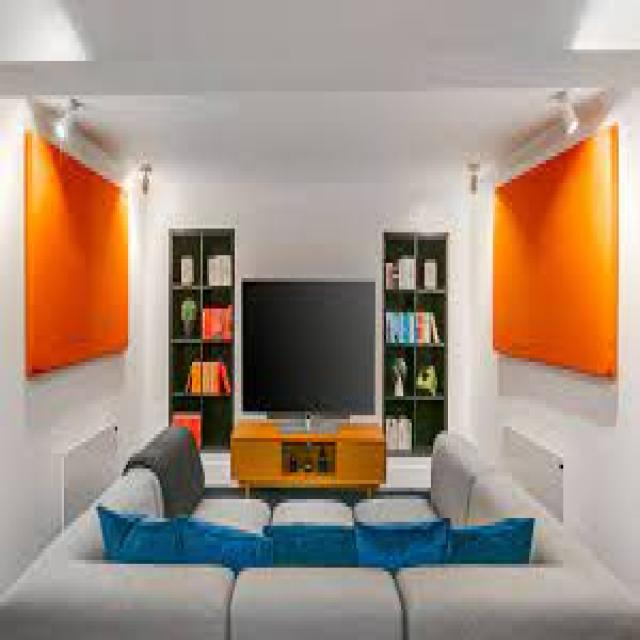Lamp: (545, 86, 586, 140), (52, 95, 86, 149), (130, 155, 164, 202), (461, 156, 486, 200)
Sofa: (52, 478, 618, 640), (0, 381, 213, 640), (392, 419, 638, 640)
